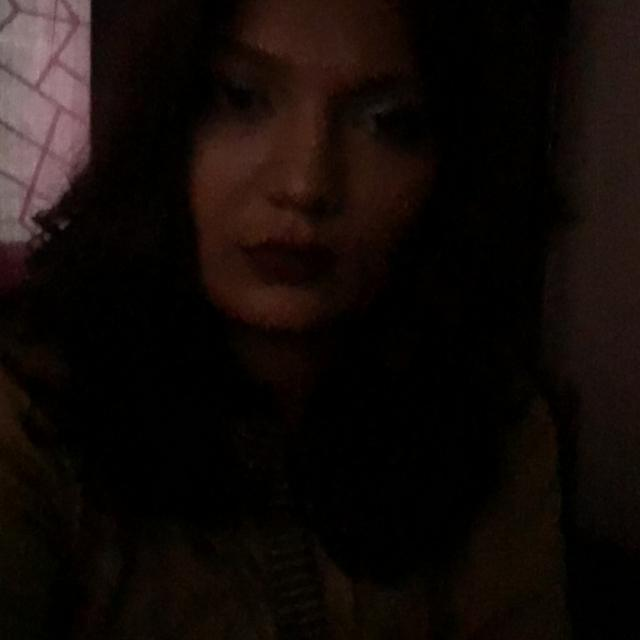Natural: (46, 28, 570, 428)
